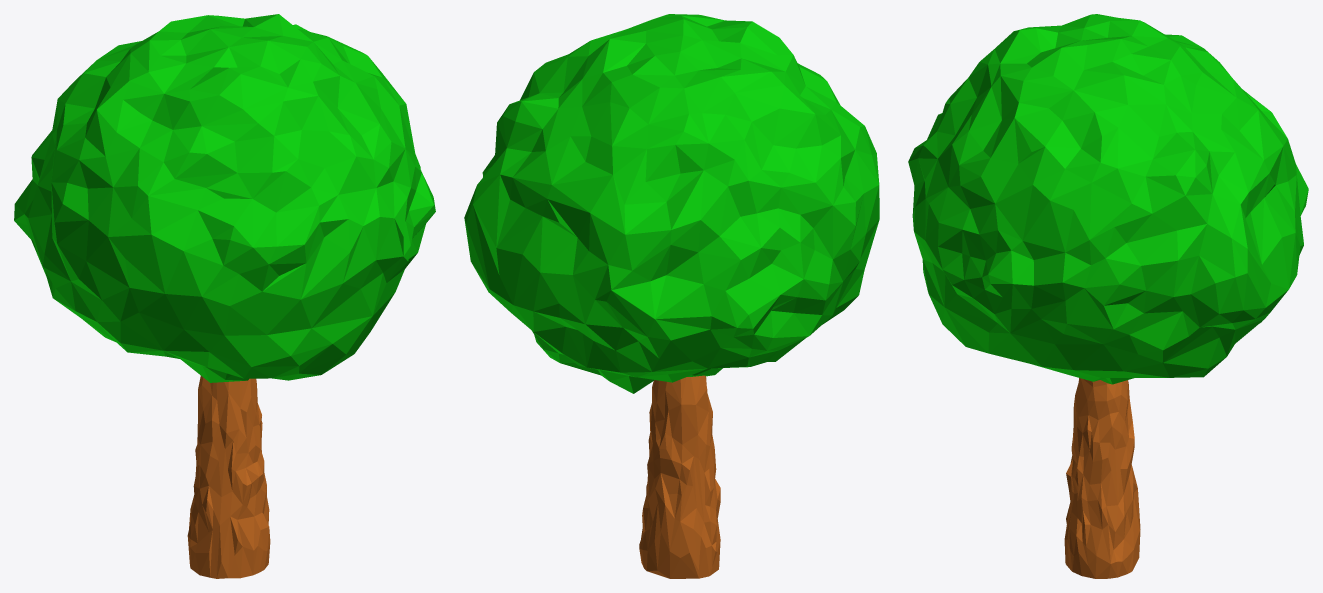
File: tree.obj
The picture shows the model from 3 angles, left to right: view 1: azimuth 30°, elevation 25°; view 2: azimuth 150°, elevation 25°; view 3: azimuth 270°, elevation 25°; orthographic projection. The views are drawn at different scales.
Visible parts, largest first — view 1: Sphere, Cylinder; view 2: Sphere, Cylinder; view 3: Sphere, Cylinder.
Part boxes in pixels (x1=…): Sphere: x1=14, y1=14, x2=435, y2=382; Cylinder: x1=187, y1=375, x2=270, y2=578; Sphere: x1=464, y1=14, x2=879, y2=393; Cylinder: x1=639, y1=375, x2=720, y2=578; Sphere: x1=908, y1=14, x2=1308, y2=384; Cylinder: x1=1064, y1=378, x2=1140, y2=578.
Bounding box in the file's own units: 2.2 × 3.24 × 2.25.
